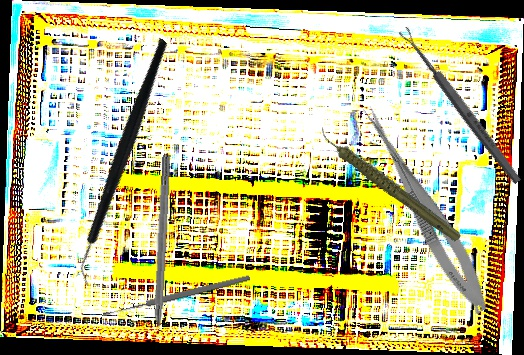Chopper: (7, 36, 244, 290)
Handpiece: (316, 101, 464, 266)
Hook Surgical: (149, 154, 172, 350)
Micro Scissor: (349, 100, 499, 319)
Surgical Spoon: (397, 25, 524, 186), (102, 273, 251, 319)
